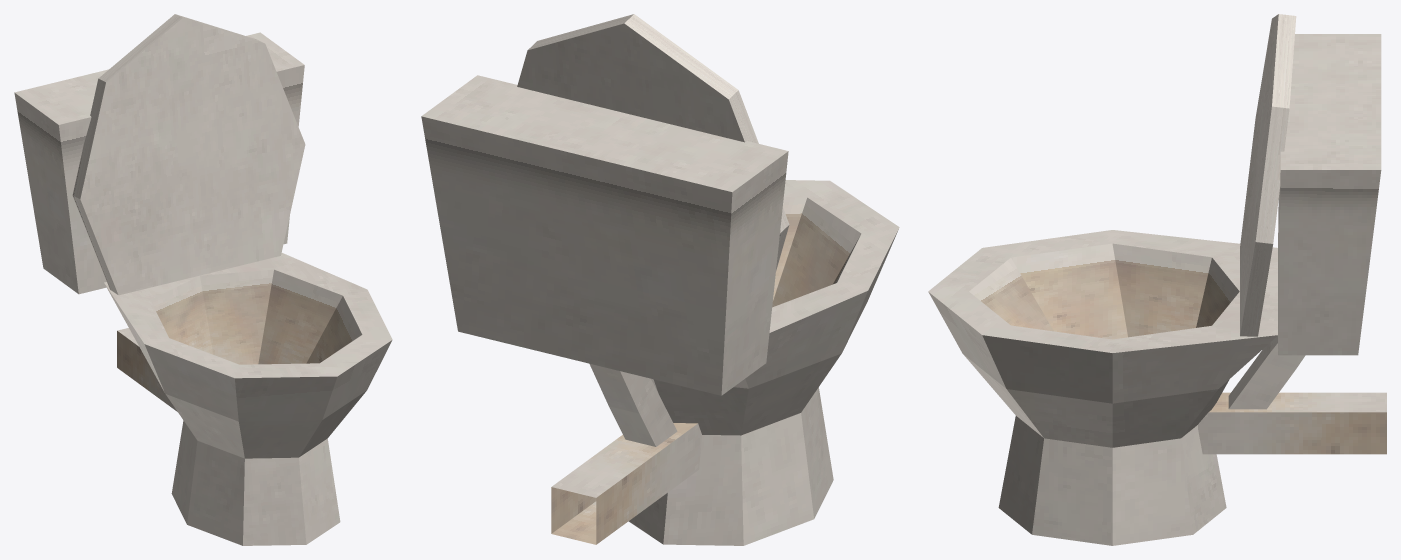
The model's file is toilet_001.glb.
The picture shows the model from 3 angles, left to right: view 1: azimuth 30°, elevation 25°; view 2: azimuth 150°, elevation 25°; view 3: azimuth 270°, elevation 25°; orthographic projection. The views are drawn at different scales.
Parts seen in each view (by area): view 1: toilet.001; view 2: toilet.001; view 3: toilet.001.
Boxes of the visible parts, bbox=[...] form: toilet.001: bbox=[14, 14, 392, 545]; toilet.001: bbox=[421, 14, 899, 545]; toilet.001: bbox=[928, 14, 1386, 545].
Size of the model in its own units: 0.5999 by 1.02 by 0.856.
1 material, 1 textured.
